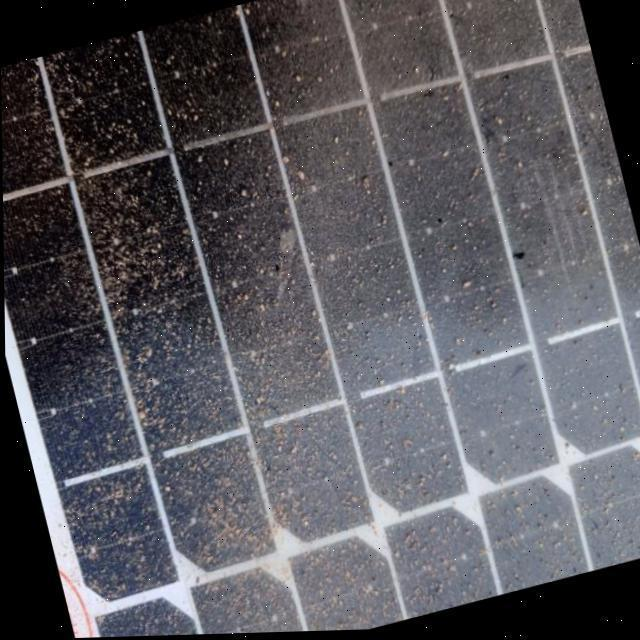Surface Contaminant: (1, 0, 640, 638)
